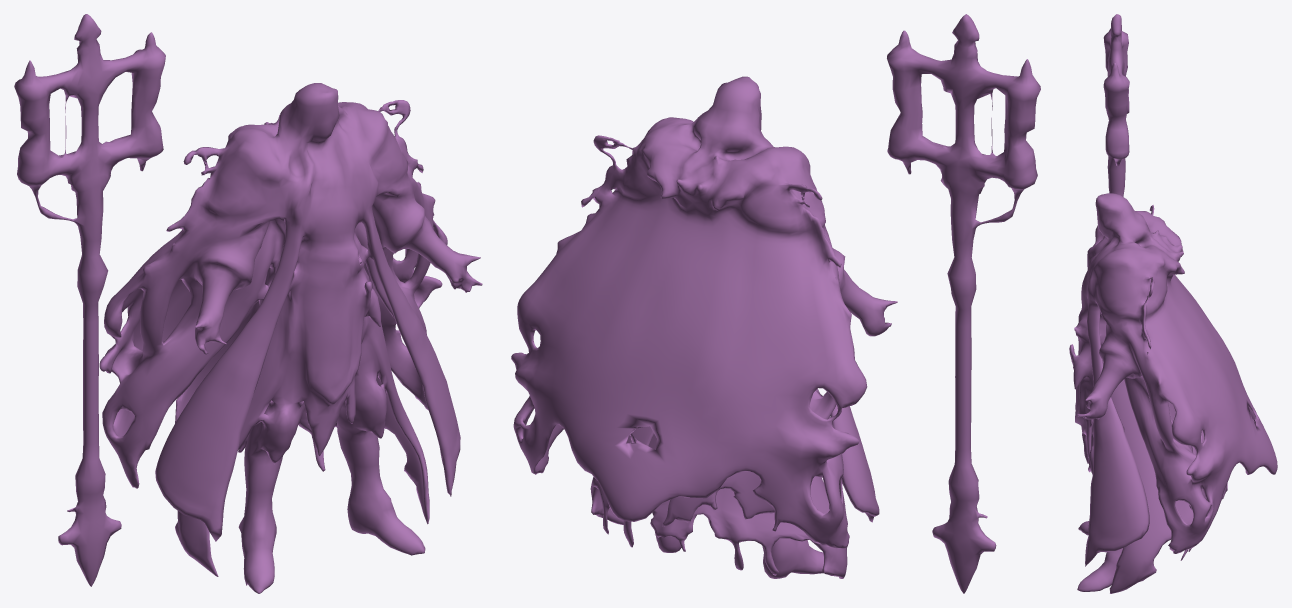
The model's file is gate-sovereign.glb.
3 views of the same model, side by side, from view 1: azimuth 30°, elevation 25°; view 2: azimuth 150°, elevation 25°; view 3: azimuth 270°, elevation 25° (orthographic). The views are drawn at different scales.
Parts seen in each view (by area): view 1: model; view 2: model; view 3: model.
Boxes of the visible parts, x1,y1,x2,y2 form: model: (14,14,482,593); model: (511,14,1040,593); model: (1069,14,1277,593).
Bounding box in the file's own units: 1.54 × 1.87 × 0.7649.
